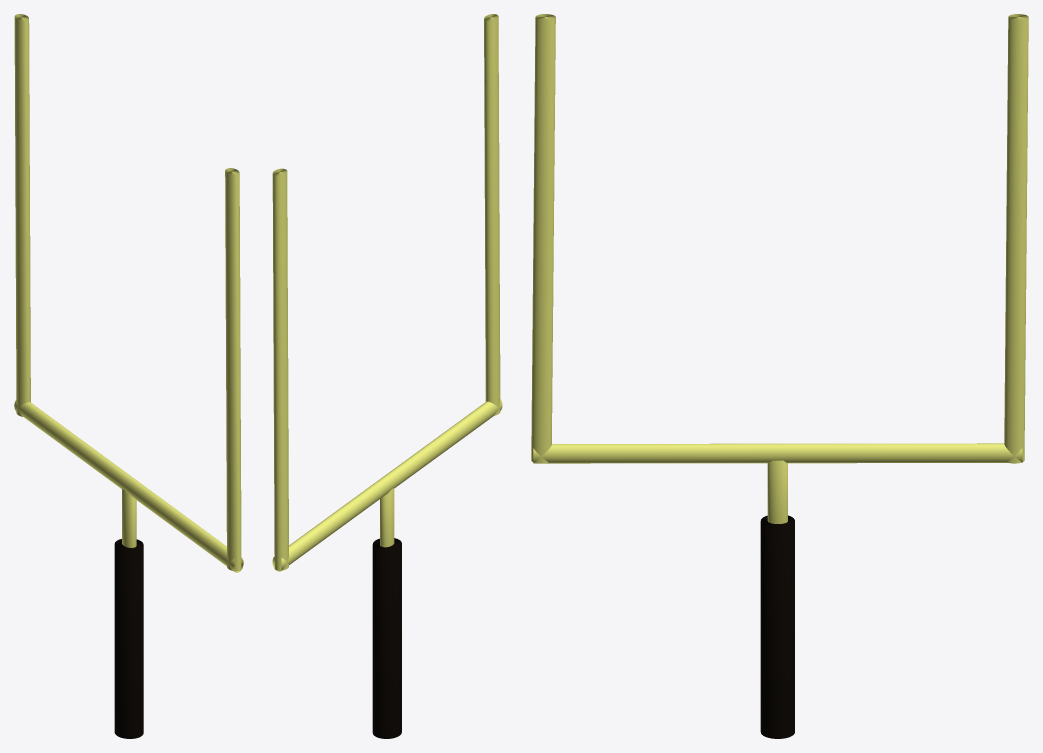
The model's file is goalpost.fbx.
The picture shows the model from 3 angles, left to right: view 1: azimuth 30°, elevation 25°; view 2: azimuth 150°, elevation 25°; view 3: azimuth 270°, elevation 25°; orthographic projection. The views are drawn at different scales.
Visible parts, largest first — view 1: Vertical Post Right, Vertical Post Left, Padding, Horizontal Post, Small Post; view 2: Vertical Post Left, Vertical Post Right, Padding, Horizontal Post, Small Post; view 3: Horizontal Post, Vertical Post Left, Vertical Post Right, Padding, Small Post.
Boxes of the visible parts, x1,y1,x2,y2 form: Vertical Post Right: (225, 168, 241, 571); Vertical Post Left: (14, 14, 30, 416); Padding: (114, 539, 143, 738); Horizontal Post: (14, 400, 243, 572); Small Post: (122, 489, 136, 547); Vertical Post Left: (272, 168, 288, 570); Vertical Post Right: (484, 14, 500, 415); Padding: (372, 538, 401, 738); Horizontal Post: (272, 399, 502, 571); Small Post: (380, 488, 394, 547); Horizontal Post: (533, 443, 1022, 463); Vertical Post Left: (1004, 14, 1028, 463); Vertical Post Right: (531, 14, 555, 463); Padding: (760, 515, 794, 738); Small Post: (767, 460, 787, 523).
Bounding box in the file's own units: 27.43 × 677 × 427.
